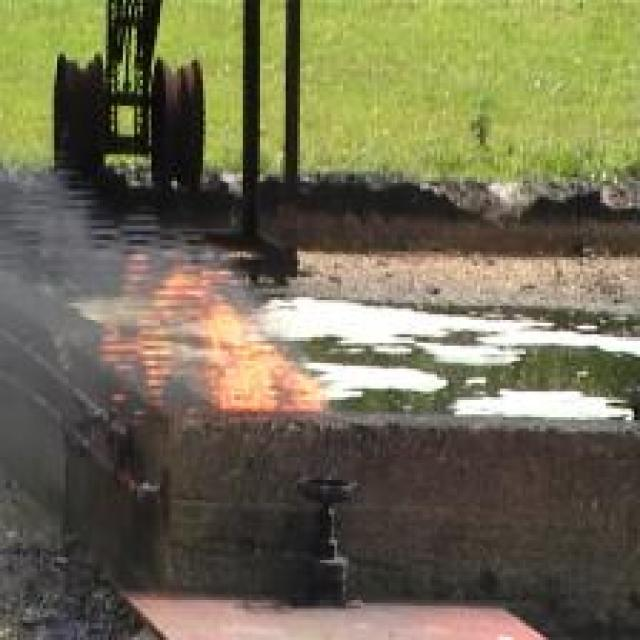Fire: (106, 248, 323, 412)
